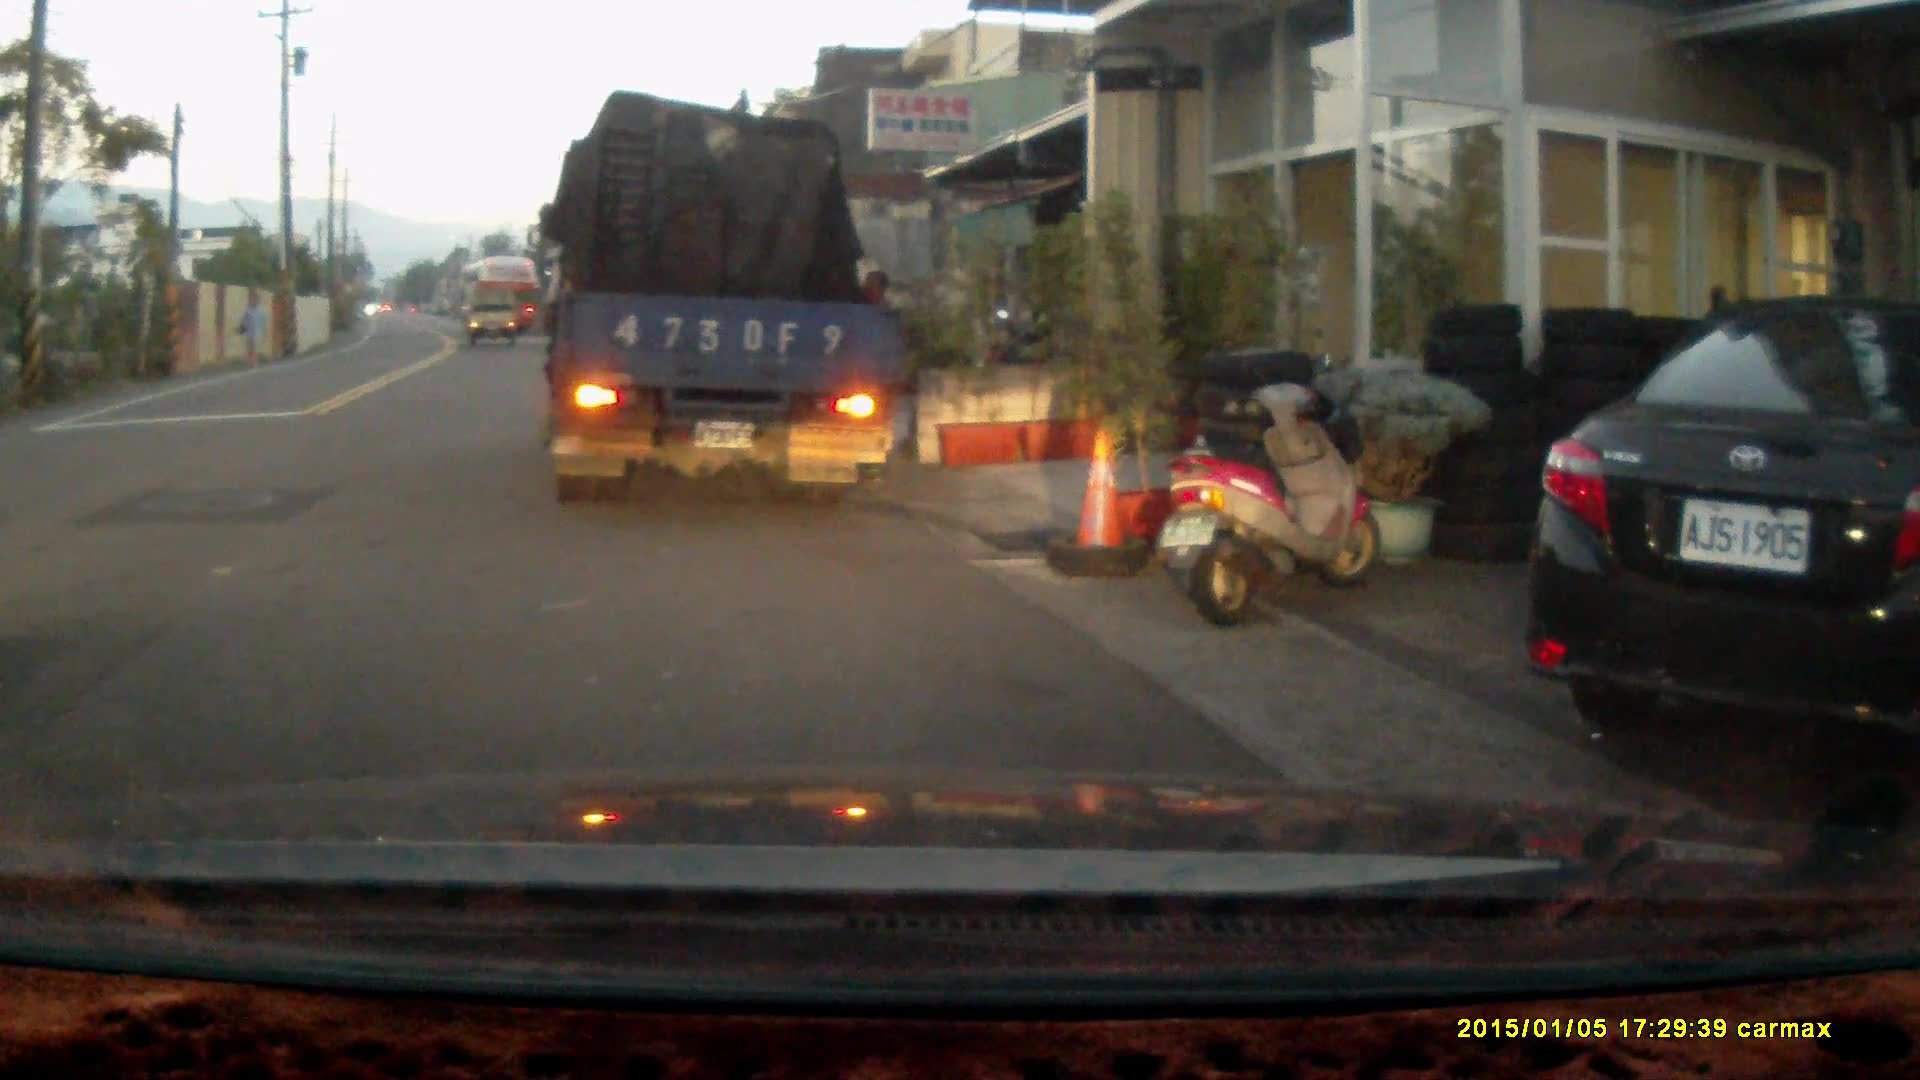pedestrian: (235, 290, 265, 363)
vehicle: (1543, 290, 1920, 769), (532, 101, 894, 504), (462, 254, 544, 338), (466, 291, 521, 352)
